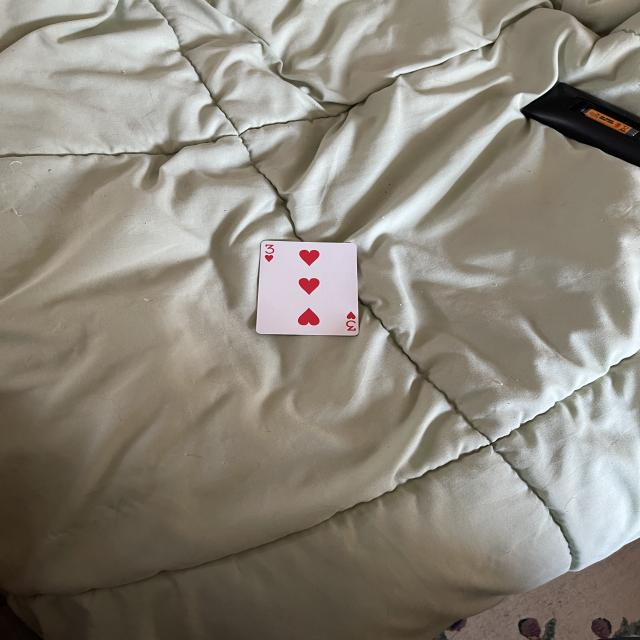3 of hearts: (256, 241, 361, 337)
